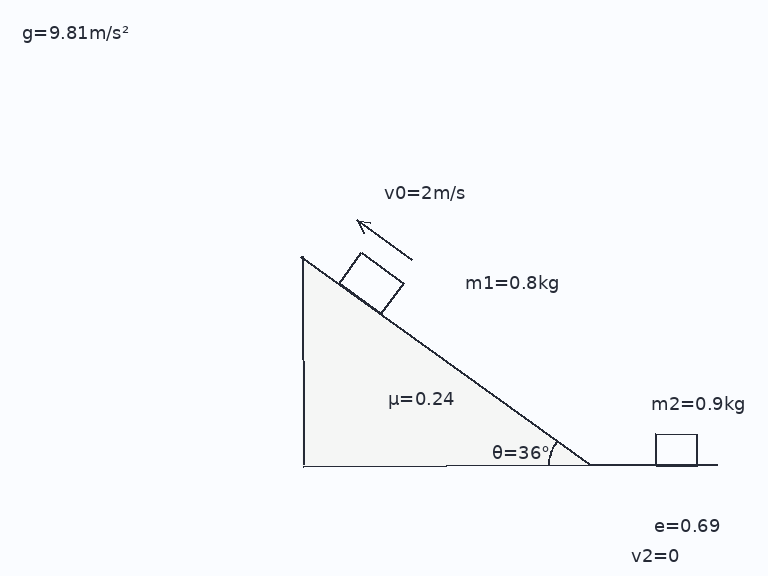block: (337, 251, 404, 315), (653, 432, 699, 467)
ramp: (301, 255, 591, 467)
